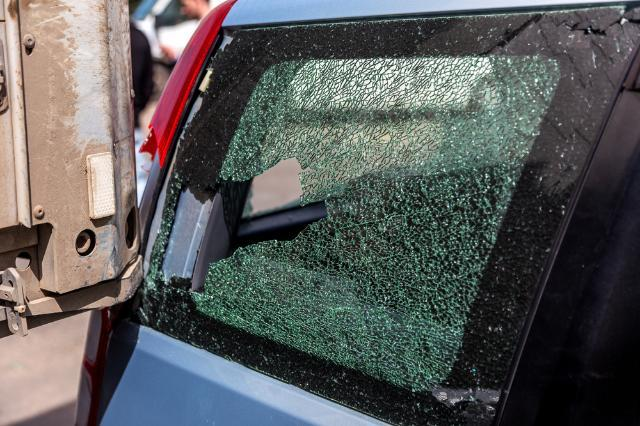glass shatter: (138, 2, 640, 426)
